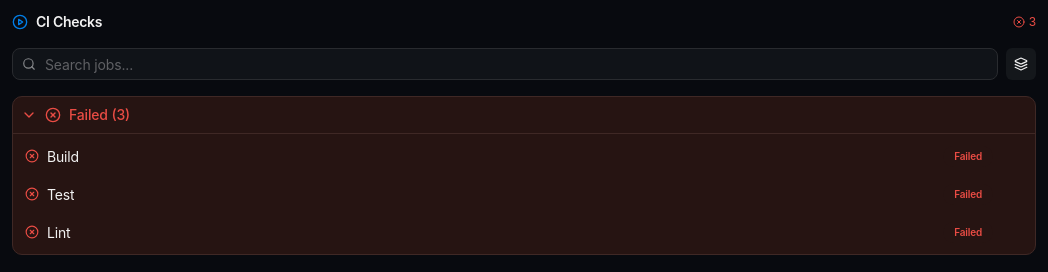
Test: CIChecksSection › search functionality › should filter checks by name
Type "Build" into the field with placeholder "Search jobs..." at [505, 64], box [12,48,998,80]
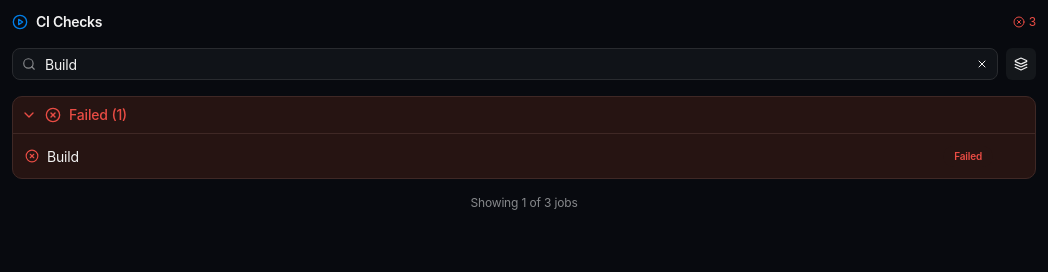
Expected: the button "Build" is shown, [47,147,79,167]
Expected: the button "Test" is gone
Expected: the button "Lint" is gone
